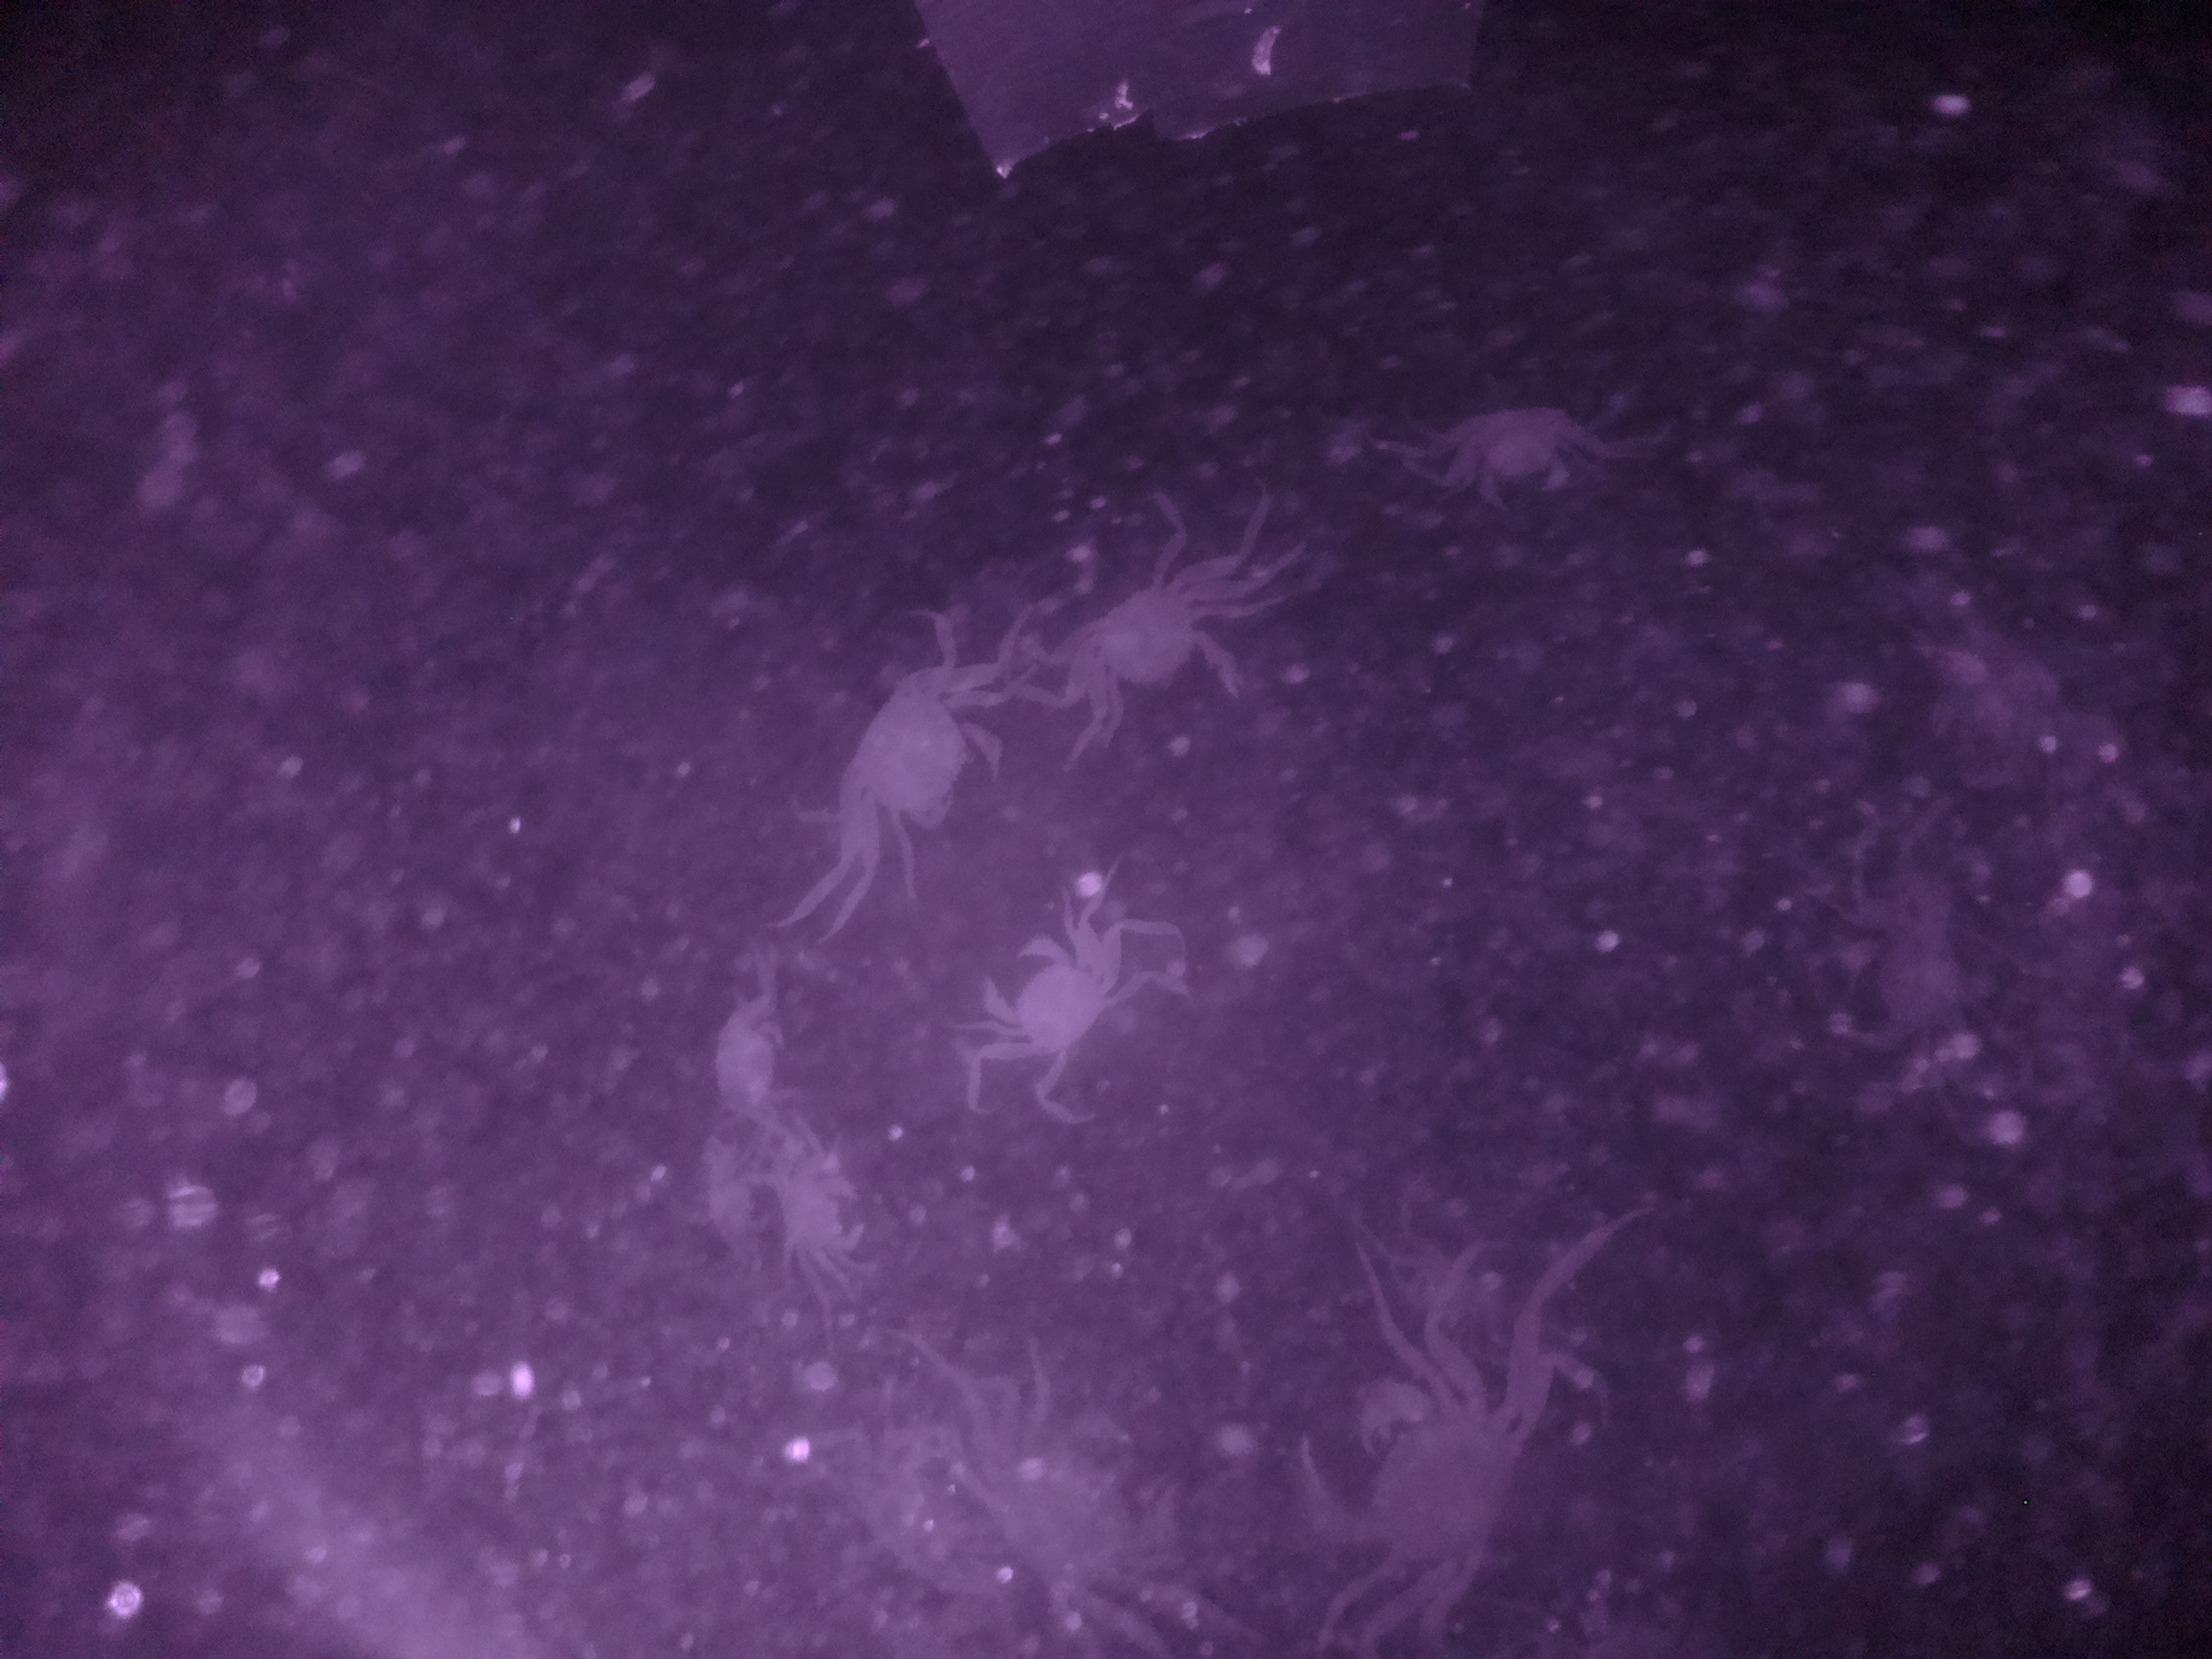Crab: (1047, 559, 1277, 762), (810, 641, 1003, 863), (974, 910, 1125, 1073), (754, 1138, 885, 1291)
